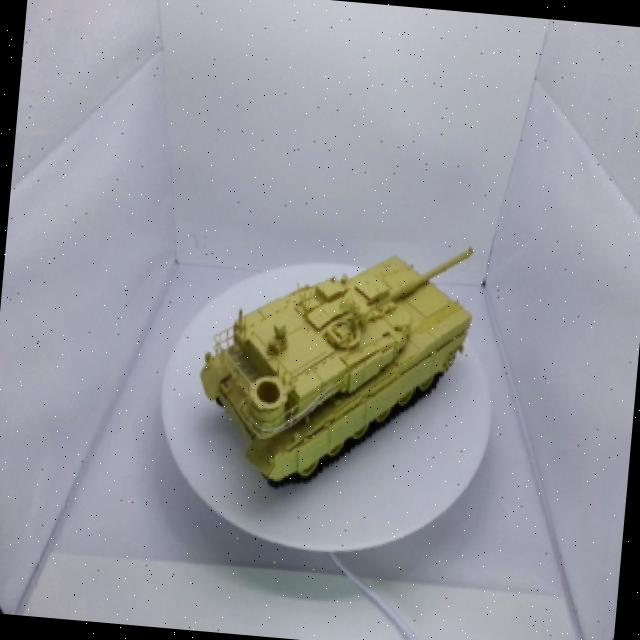korea tank: (184, 189, 507, 520)
